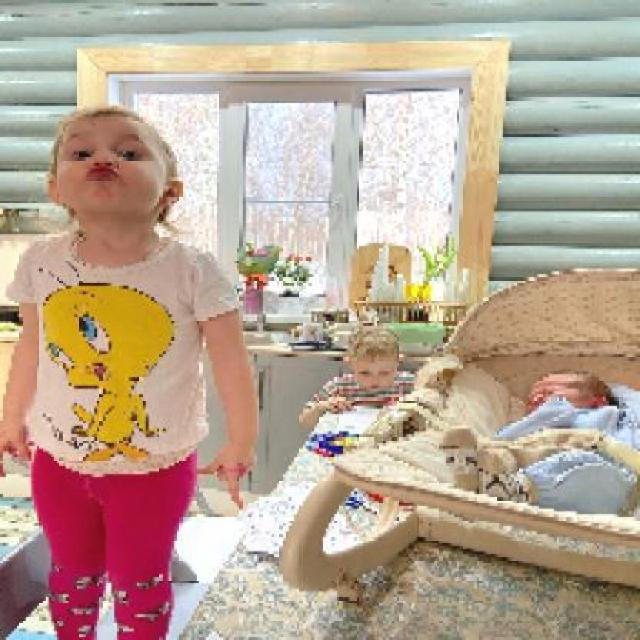child: (3, 102, 260, 638), (440, 368, 640, 512), (298, 327, 416, 430)
